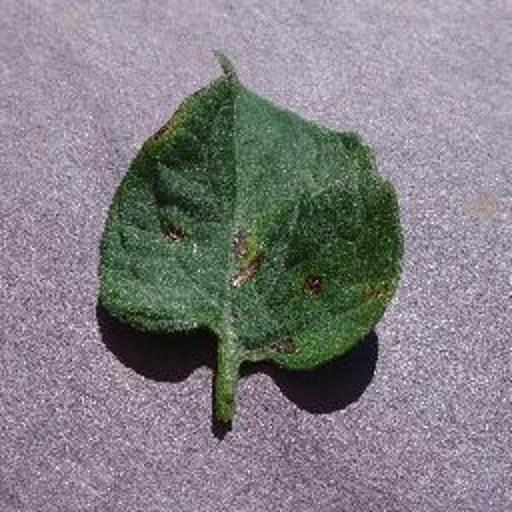Target Spot: (136, 62, 398, 422)
